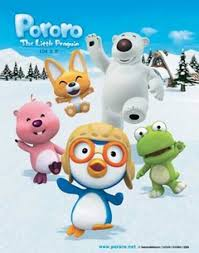Loopy: (10, 94, 67, 184)
Pororo: (57, 123, 137, 243)
